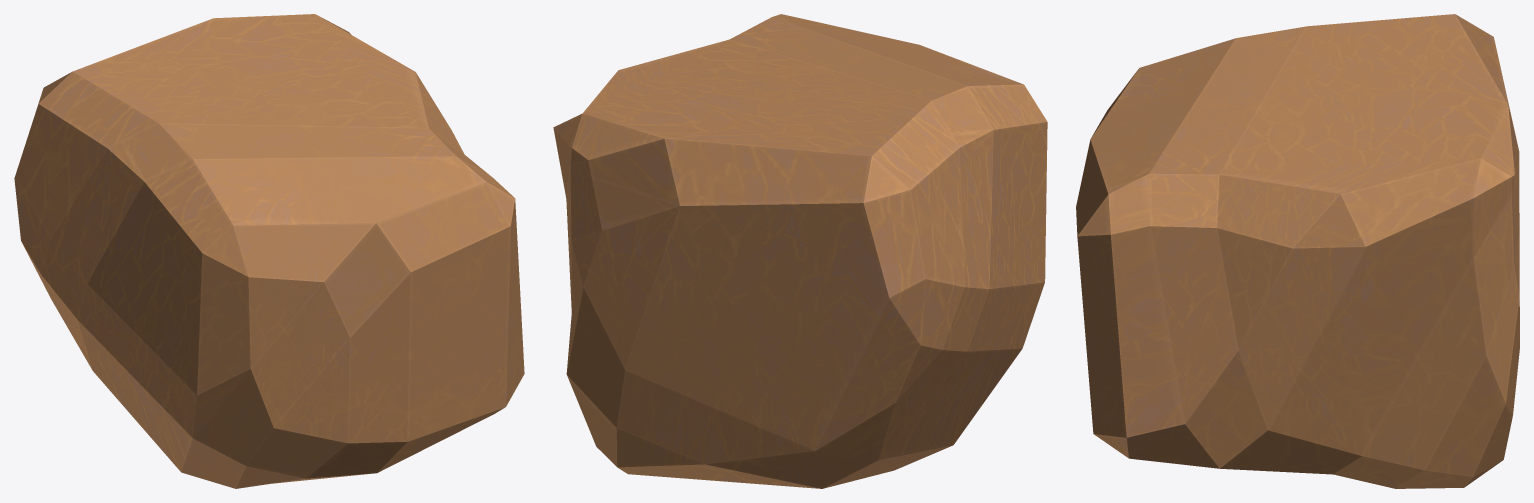
The model's file is Rock_1.fbx.
3 views of the same model, side by side, from view 1: azimuth 30°, elevation 25°; view 2: azimuth 150°, elevation 25°; view 3: azimuth 270°, elevation 25° (orthographic). The views are drawn at different scales.
Visible parts, largest first — view 1: Rock_1; view 2: Rock_1; view 3: Rock_1.
Part boxes in pixels (bbox=[...]): Rock_1: bbox=[14, 14, 524, 488]; Rock_1: bbox=[553, 14, 1047, 488]; Rock_1: bbox=[1076, 14, 1519, 488].
Size of the model in its own units: 191 by 182 by 196.
